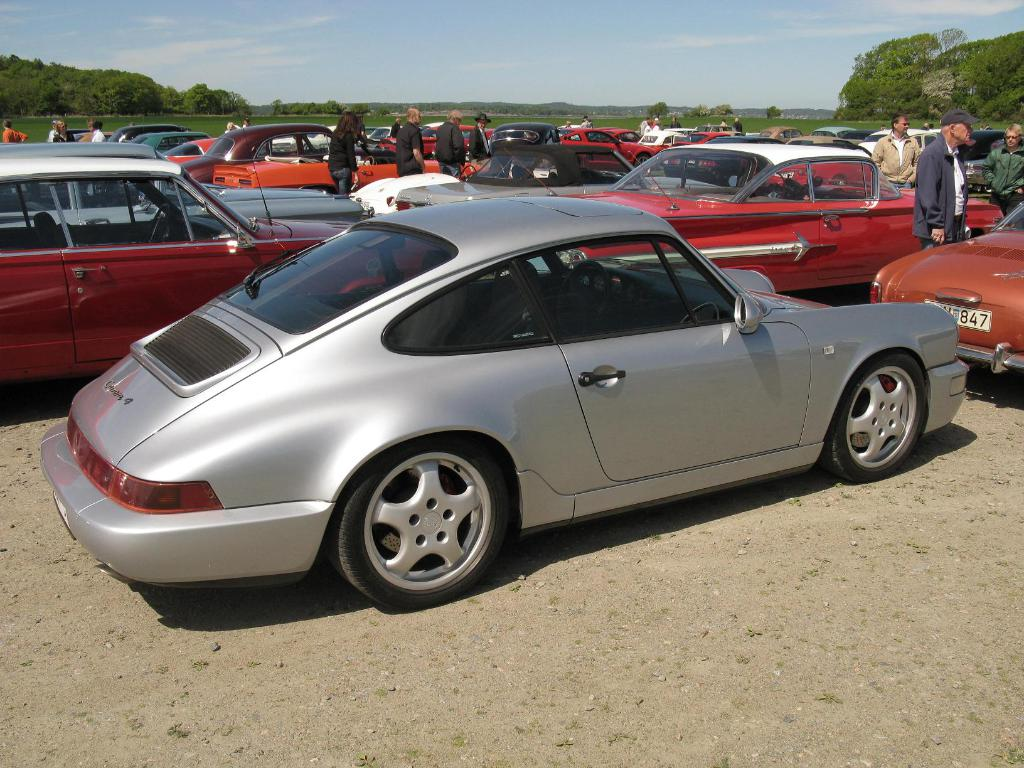Car: (0, 119, 1023, 614)
